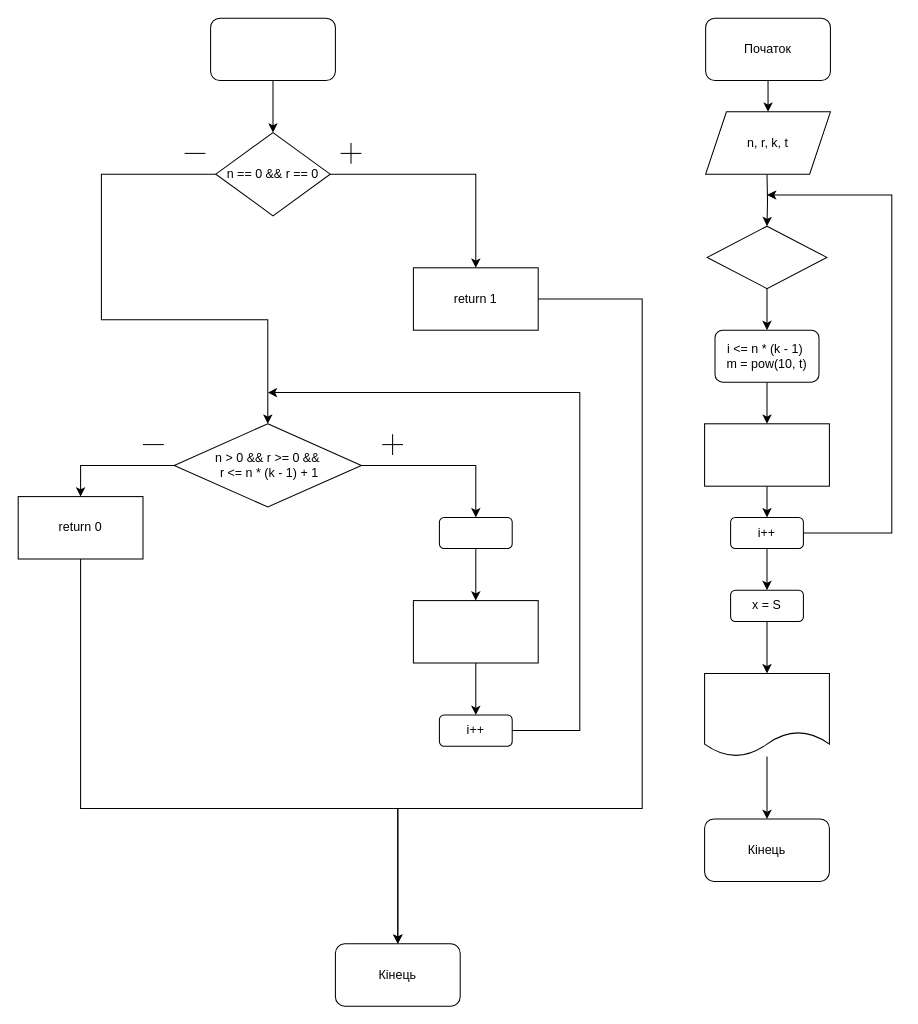
The diagram is 918 pixels wide and 1024 high, and some of its shapes have lost their labels. Each missing label, with the centre of its shape:
f(n, r): the point at 272,49
i = 0: the point at 475,532
S += f(n, i) % m: the point at 766,454
S1 += f(n - 1, r - i): the point at 475,631
t >= 0 && t <= 10: the point at 766,257
x, f: the point at 766,714
